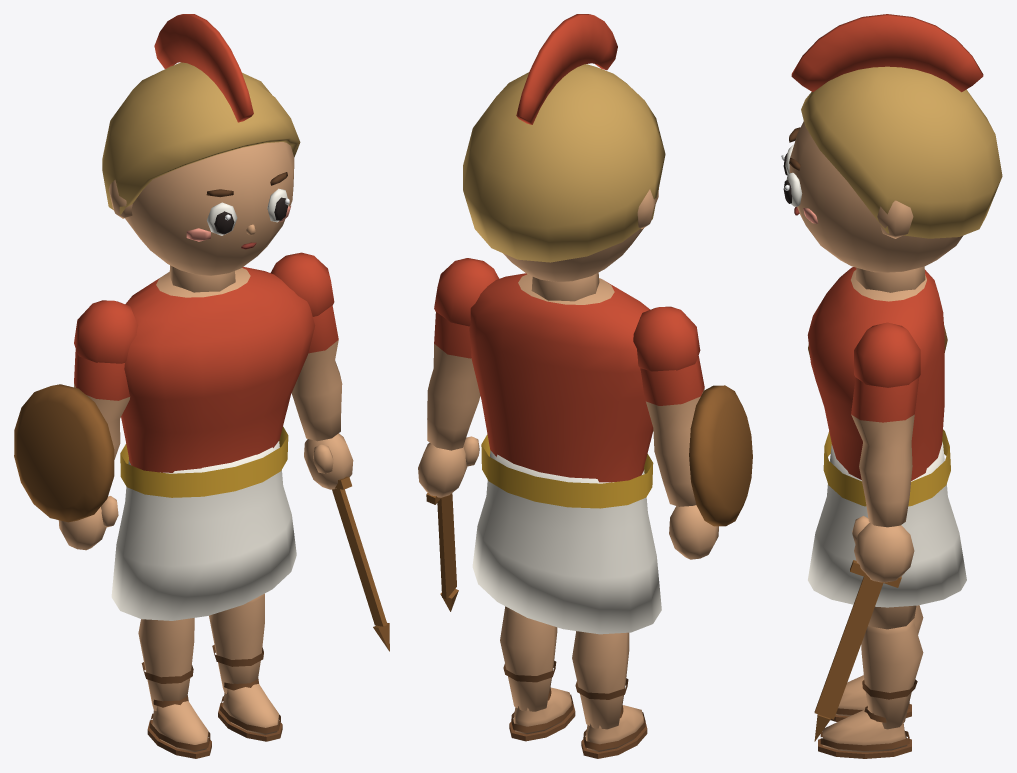
File: rekrut.glb
3 renders of one model, left to right at view 1: azimuth 30°, elevation 25°; view 2: azimuth 150°, elevation 25°; view 3: azimuth 270°, elevation 25°, orthographic. The views are drawn at different scales.
Visible parts, largest first — view 1: rumpf, huefte, kopfschmuck, kopf, itemL, armR, armL, knieL, knieR, itemR, augeL; view 2: rumpf, kopfschmuck, huefte, armL, armR, itemL, knieL, knieR, kopf, itemR; view 3: kopfschmuck, rumpf, armR, kopf, huefte, knieR, itemR, knieL, beinR, augeR.
Boxes of the visible parts, x1=… form: rumpf: x1=120, y1=267, x2=315, y2=497; huefte: x1=111, y1=441, x2=296, y2=620; kopfschmuck: x1=102, y1=14, x2=300, y2=214; kopf: x1=108, y1=142, x2=294, y2=292; itemL: x1=14, y1=384, x2=114, y2=522; armR: x1=270, y1=252, x2=353, y2=489; armL: x1=58, y1=300, x2=138, y2=550; knieL: x1=138, y1=618, x2=211, y2=758; knieR: x1=209, y1=593, x2=282, y2=741; itemR: x1=332, y1=476, x2=389, y2=651; augeL: x1=207, y1=202, x2=237, y2=235; rumpf: x1=469, y1=273, x2=653, y2=508; kopfschmuck: x1=463, y1=14, x2=665, y2=262; huefte: x1=472, y1=450, x2=661, y2=634; armL: x1=633, y1=306, x2=718, y2=559; armR: x1=418, y1=258, x2=499, y2=497; itemL: x1=689, y1=385, x2=752, y2=526; knieL: x1=572, y1=631, x2=647, y2=758; knieR: x1=500, y1=606, x2=575, y2=741; kopf: x1=503, y1=189, x2=658, y2=301; itemR: x1=426, y1=493, x2=458, y2=611; kopfschmuck: x1=791, y1=14, x2=1002, y2=238; rumpf: x1=807, y1=267, x2=950, y2=506; armR: x1=851, y1=322, x2=920, y2=582; kopf: x1=789, y1=121, x2=963, y2=292; huefte: x1=808, y1=442, x2=966, y2=607; knieR: x1=818, y1=619, x2=923, y2=758; itemR: x1=814, y1=560, x2=901, y2=741; knieL: x1=830, y1=605, x2=923, y2=721; beinR: x1=868, y1=605, x2=916, y2=629; augeR: x1=783, y1=172, x2=802, y2=206.
Size of the model in its own units: 1.18 by 2.48 by 0.6939.
